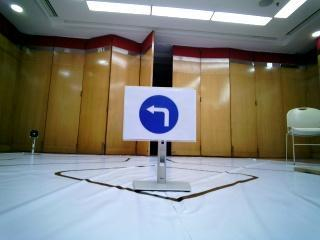left: (126, 88, 190, 143)
